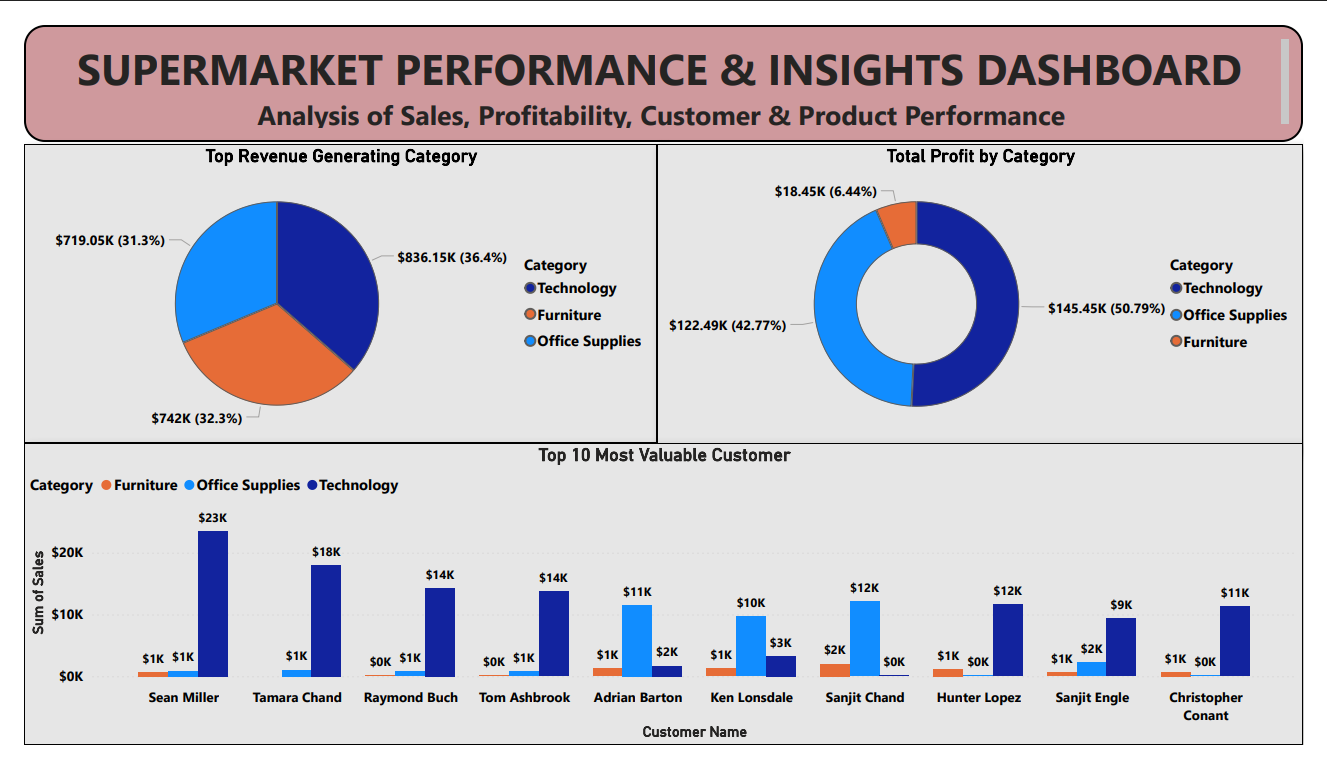

What the dashboard file says about the page in this screenshot:
{"tool":"powerbi","page":{"name":"Page 7","canvas":[1280,720],"ordinal":6},"visuals":[{"type":"textbox","box":[0,0,1279.4,117.2],"z":0},{"type":"pieChart","title":"Top Revenue Generating Category","fields":{"Category":["Sample - Superstore excel cleaned.Category"],"Y":["Sum(Sample - Superstore excel cleaned.Sales)"]},"box":[0,119.1,633.1,298.6],"z":1000},{"type":"donutChart","title":"Total Profit by Category","fields":{"Y":["Sum(Sample - Superstore excel cleaned.Profit)"],"Category":["Sample - Superstore excel cleaned.Category"]},"box":[633.1,119,646.3,300.5],"z":2000},{"type":"clusteredColumnChart","title":"Top 10 Most Valuable Customer","fields":{"Category":["Sample - Superstore excel cleaned.Customer Name"],"Y":["Sum(Sample - Superstore excel cleaned.Sales)"],"Series":["Sample - Superstore excel cleaned.Category"]},"box":[0,418,1279.4,302.4],"z":3000}]}

Visuals, with their boxes in screenshot pixels (x1, y1, x2, y2), scaled from the page's 1280x720 canvas onto the 1327x765 screenshot:
textbox: select_region(0, 0, 1326, 125)
"Top Revenue Generating Category" pieChart: select_region(0, 127, 656, 444)
"Total Profit by Category" donutChart: select_region(656, 126, 1326, 446)
"Top 10 Most Valuable Customer" clusteredColumnChart: select_region(0, 444, 1326, 764)
